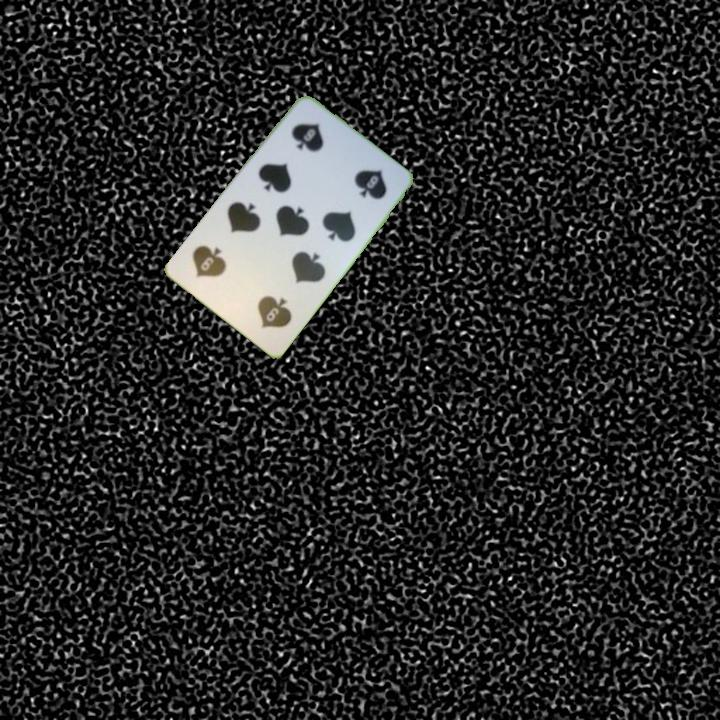s_9.png: (269, 103, 356, 188), (224, 262, 310, 346)
